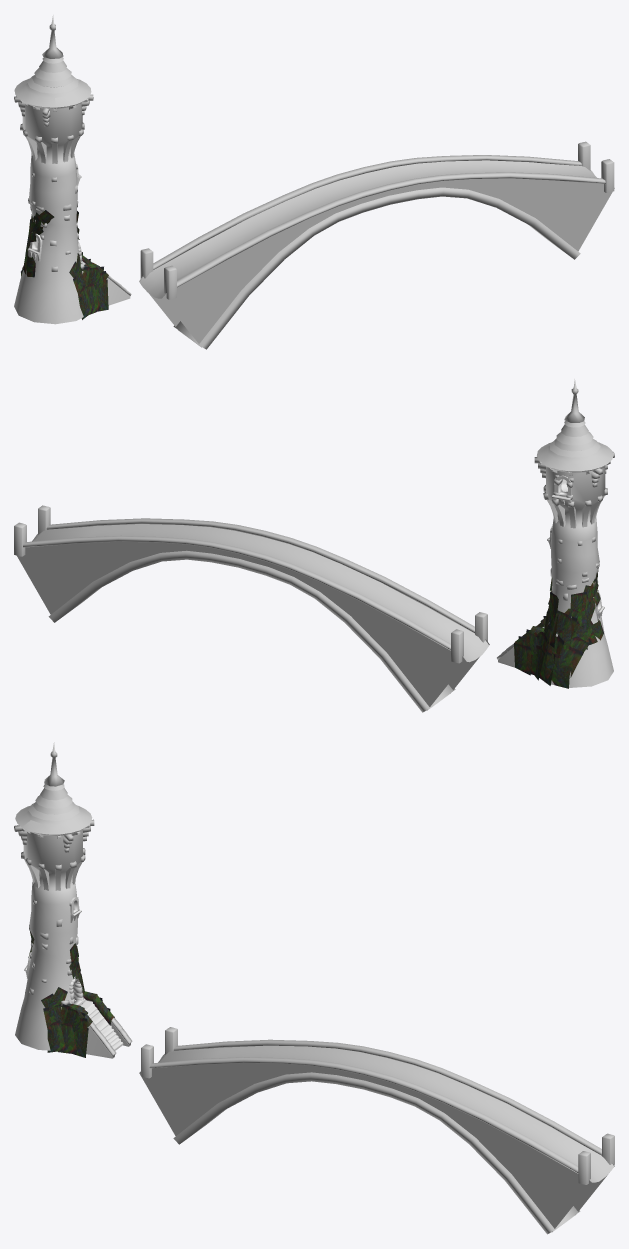
Rendered from MageTower_Lod_02.fbx.
3 views of the same model, one above another, from view 1: azimuth 30°, elevation 25°; view 2: azimuth 150°, elevation 25°; view 3: azimuth 330°, elevation 25° (orthographic).
Parts seen in each view (by area): view 1: Bridge, MageTower, MT_roof, MT_ivy, MT_Brace_Stones; view 2: Bridge, MageTower, MT_ivy, MT_roof, MT_Brace_Stones; view 3: Bridge, MageTower, MT_ivy, MT_roof, MT_Brace_Stones.
Boxes of the visible parts, x1,y1,x2,y2 form: Bridge: (139, 141, 614, 349); MageTower: (14, 98, 131, 324); MT_roof: (14, 15, 91, 107); MT_ivy: (21, 210, 108, 319); MT_Brace_Stones: (18, 100, 89, 273); Bridge: (14, 505, 489, 712); MageTower: (497, 461, 613, 687); MT_ivy: (514, 570, 603, 688); MT_roof: (537, 379, 613, 471); MT_Brace_Stones: (538, 461, 610, 636); Bridge: (139, 1027, 614, 1234); MageTower: (15, 824, 132, 1058); MT_ivy: (25, 930, 114, 1057); MT_roof: (15, 742, 92, 834); MT_Brace_Stones: (18, 826, 90, 1009).
Bounding box in the file's own units: 76.84 × 45.18 × 9.07.
